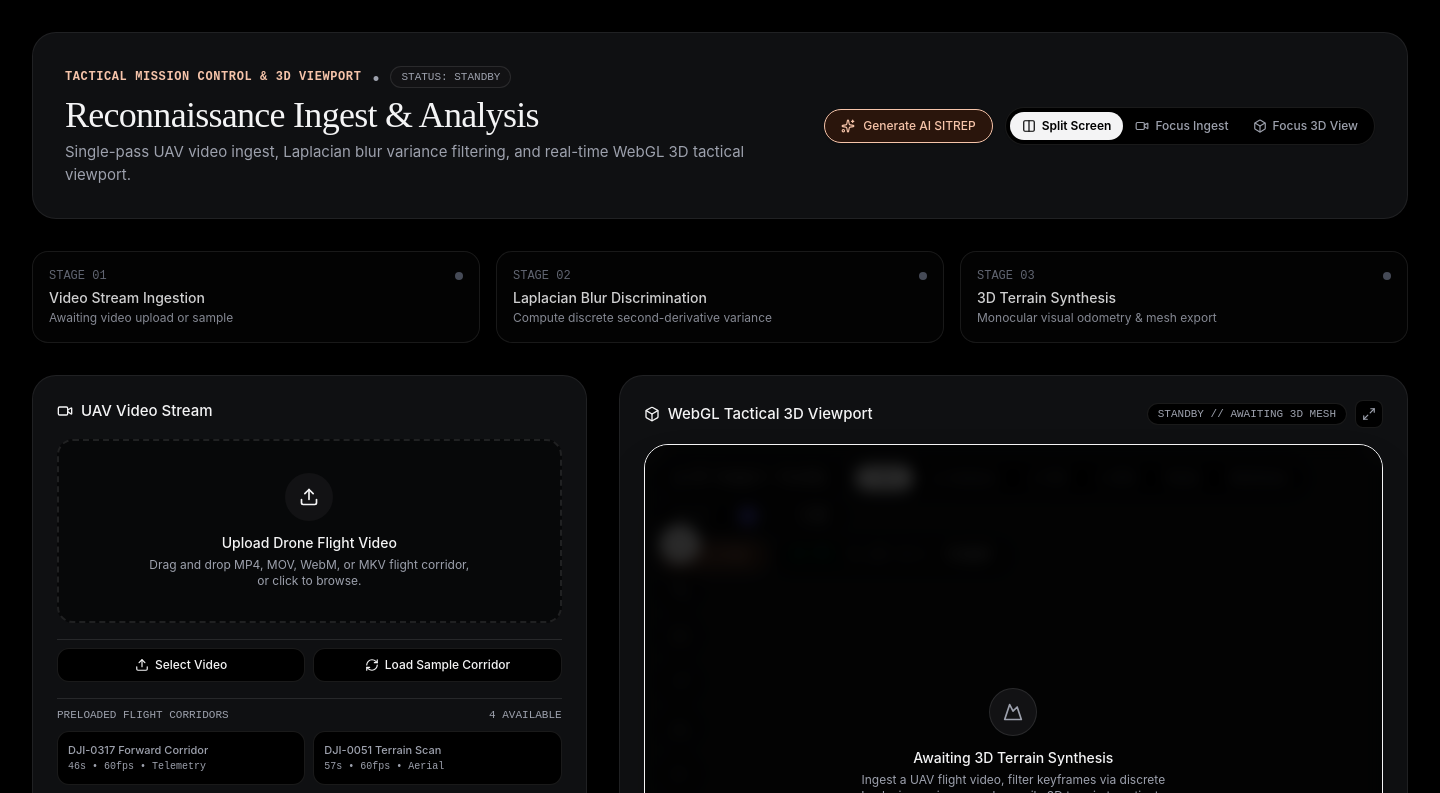
TacticalConsole Component Verification › renders unified split-screen mission control with layout mode controls
The width and height of the screenshot is (1440, 793).
expect the button titled "Dual-Pane Split View" is shown: met, box [1010,112,1123,140]
expect the button titled "Focus Video Ingestion" is shown: met, box [1123,112,1241,140]
# Toggle to 3D focus mode
Click the button titled "Focus 3D Viewport" at (1305, 126), box [1241,112,1370,140]
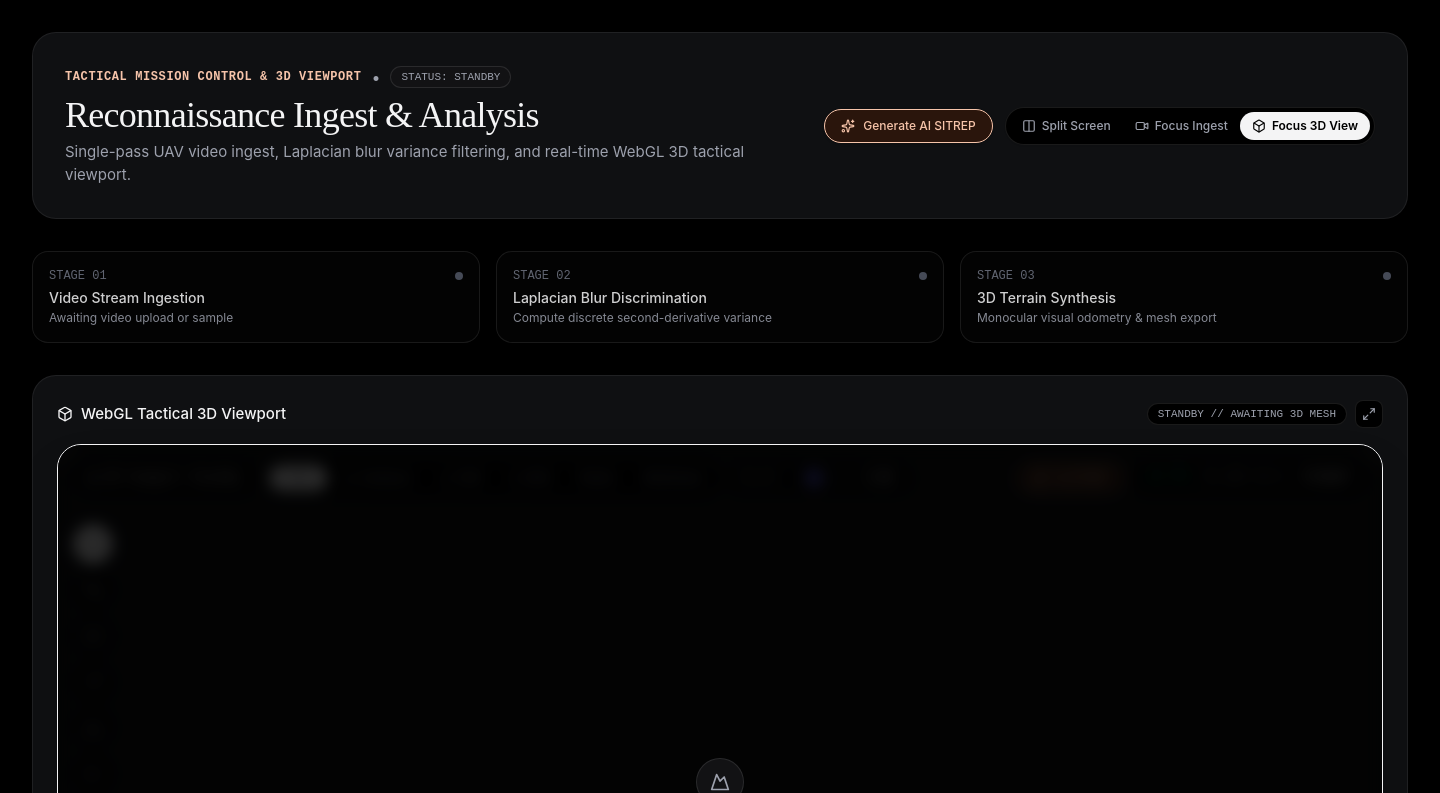
expect the heading "WebGL Tactical 3D Viewport" is shown: met, box [81,403,286,425]
expect the text "Upload Drone Flight Video" is gone: met
# Toggle back to Split Screen
Click the button titled "Dual-Pane Split View" at (1066, 126), box [1010,112,1123,140]
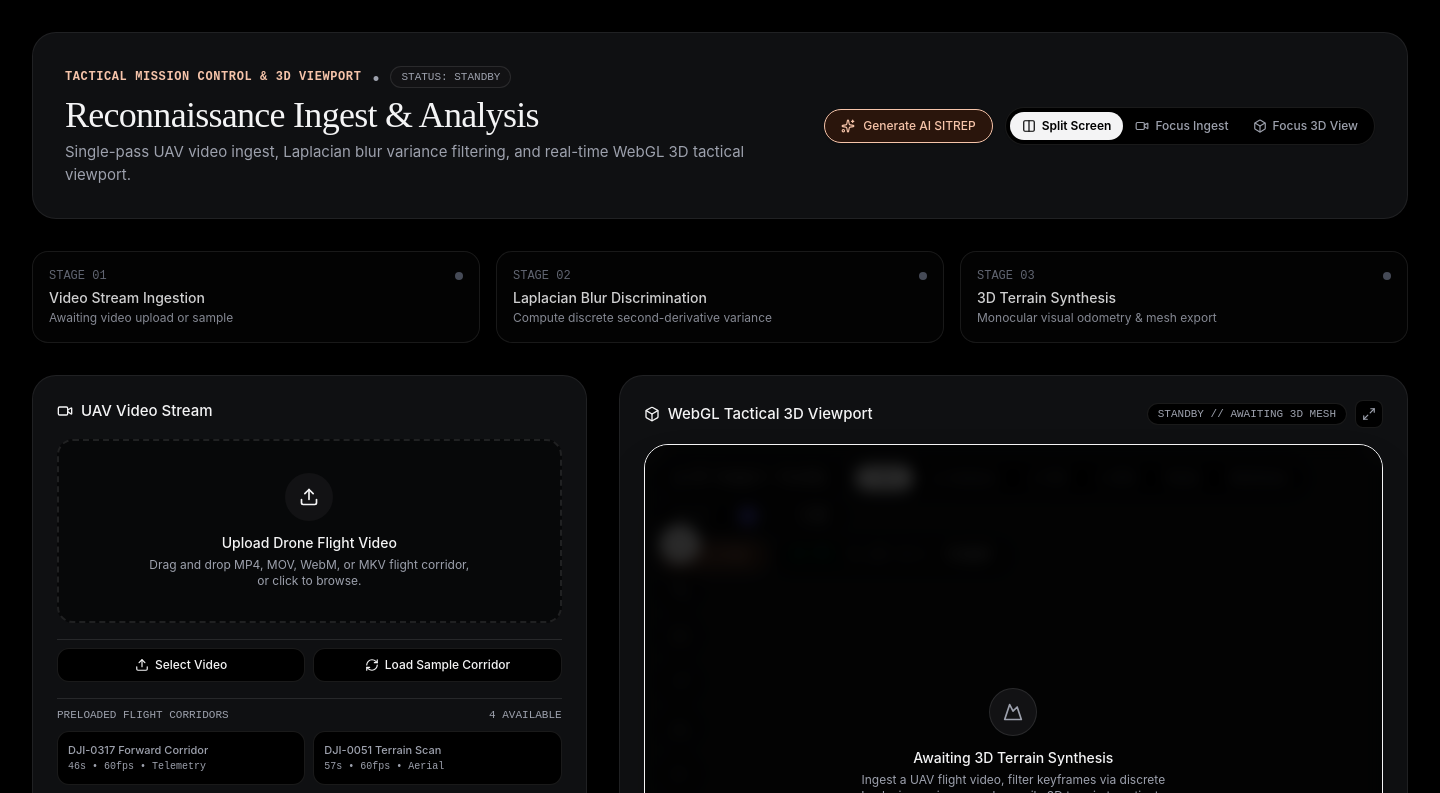
expect the heading "WebGL Tactical 3D Viewport" is shown: met, box [668,403,873,425]
expect the text "Upload Drone Flight Video" is shown: met, box [222,534,397,550]
